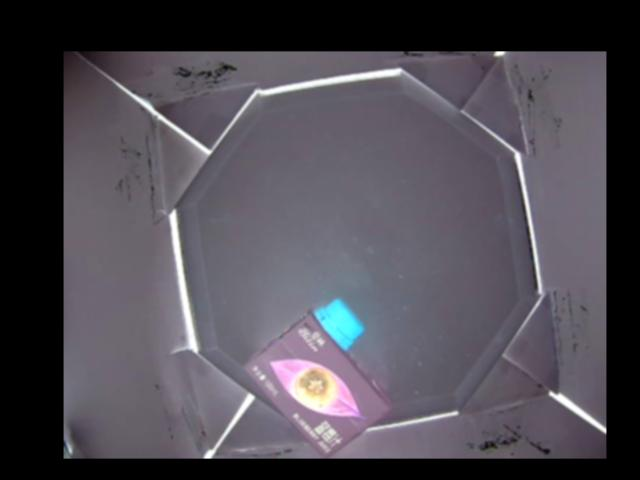Bottle: (250, 297, 391, 458)
